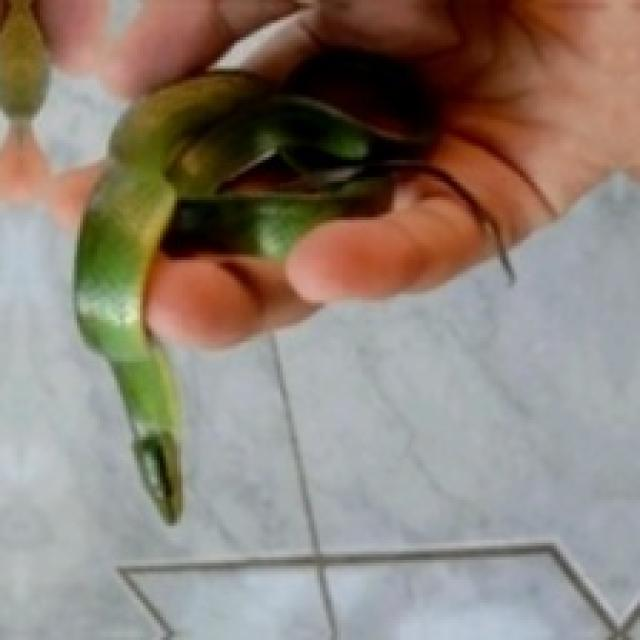red-tailed green ratsnake: (74, 49, 491, 520)
